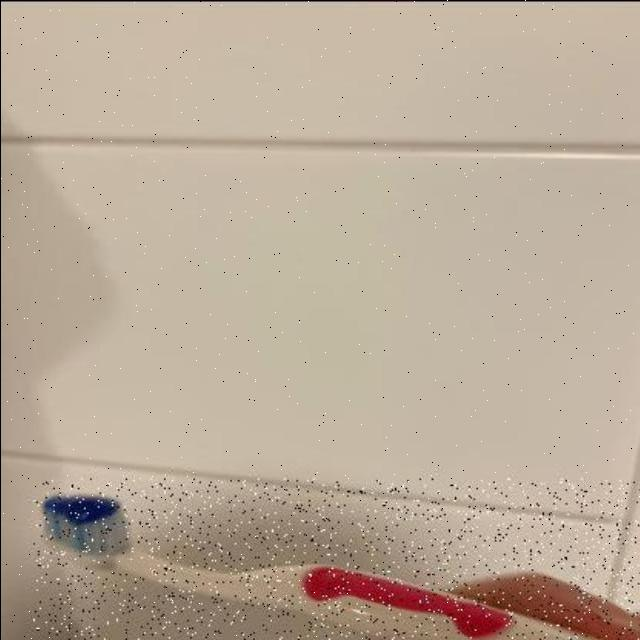toothbrush: (32, 476, 640, 640)
